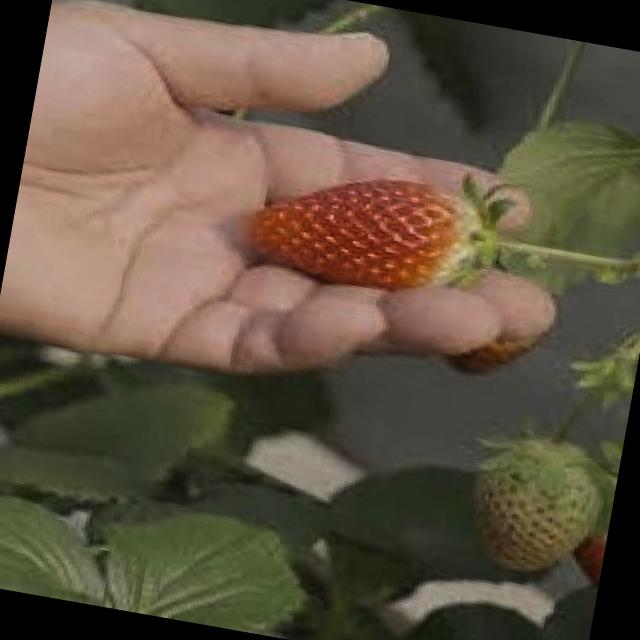strawberry: (242, 153, 488, 309), (462, 429, 611, 583)
